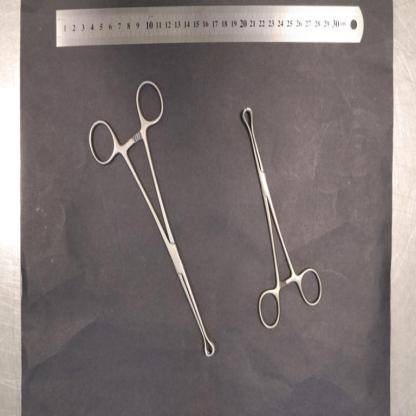8 Babcock Tissue Forceps: (88, 82, 214, 358)
Babcock Tissue Forceps: (242, 107, 322, 331)
